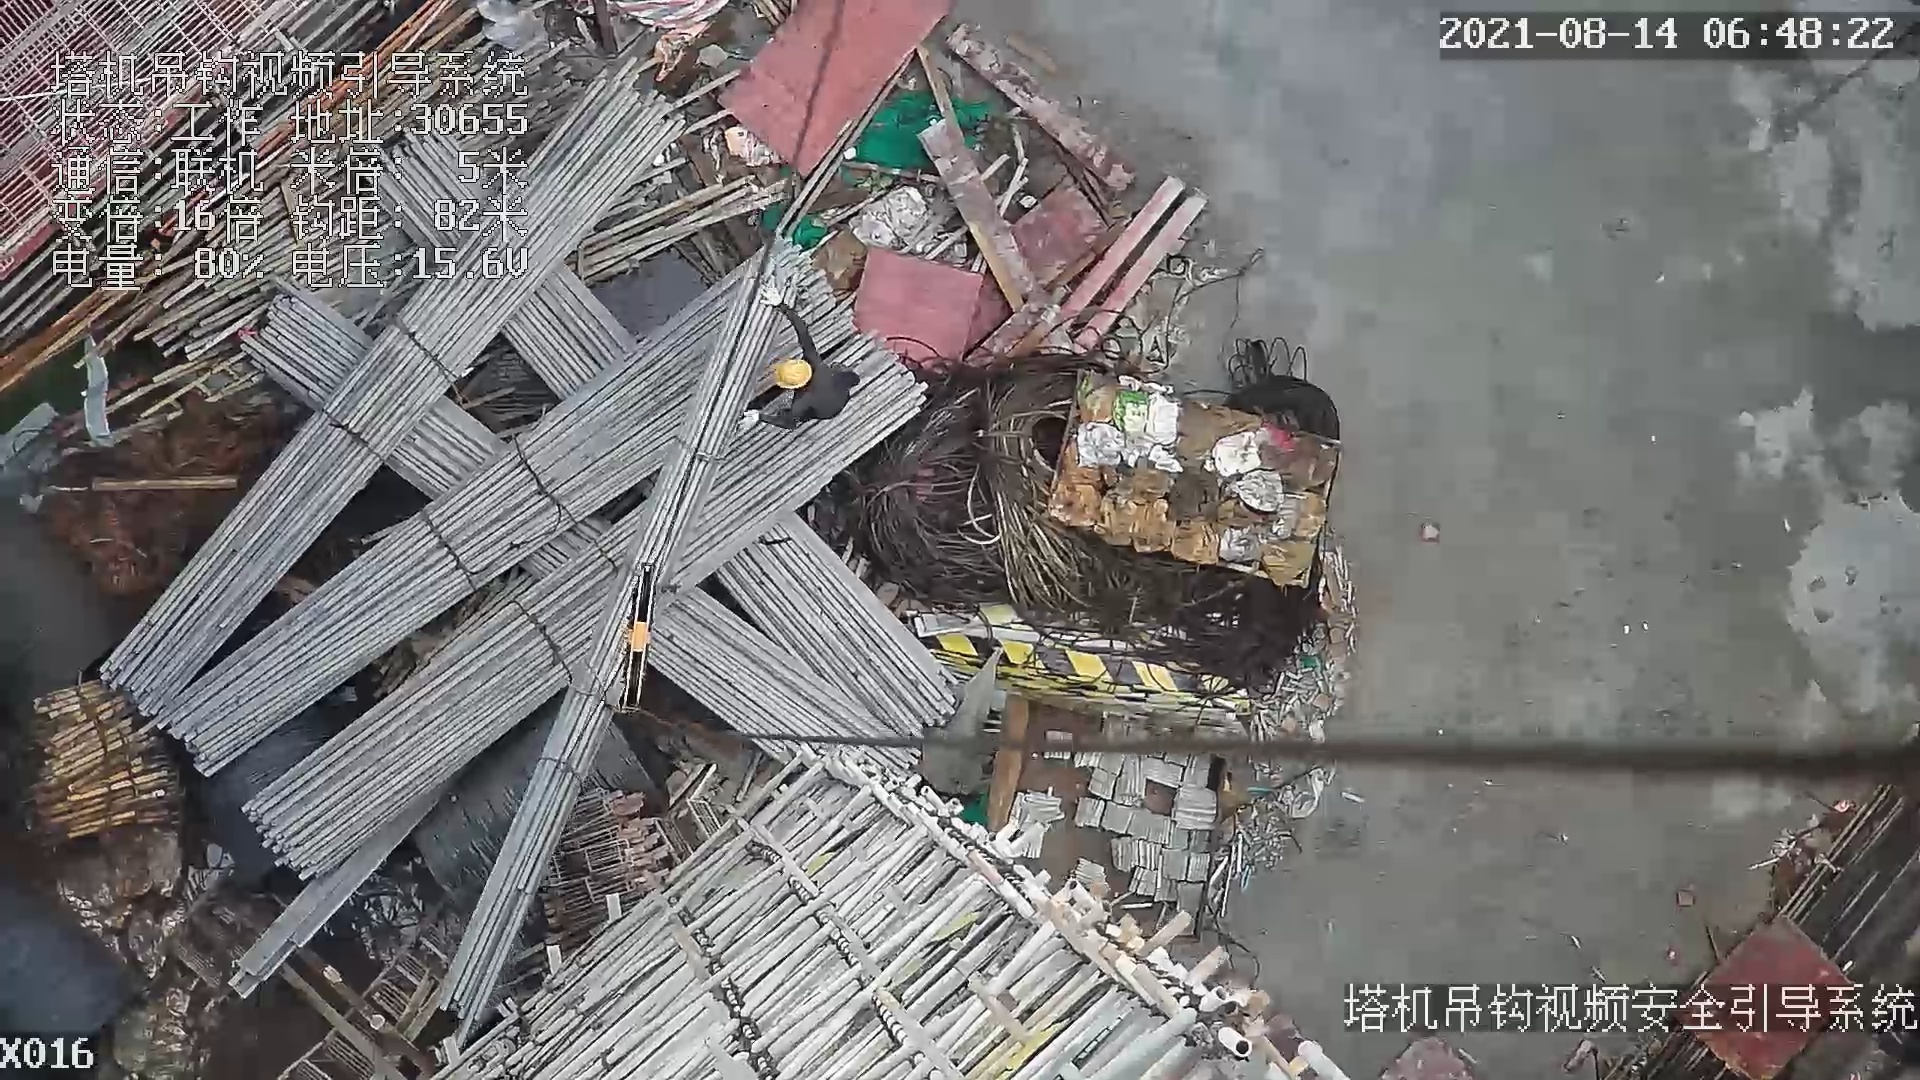board: (713, 1, 952, 179)
helmet: (769, 357, 812, 390)
hook: (618, 559, 655, 715)
person: (741, 277, 872, 442)
scaffold: (21, 686, 169, 835)
